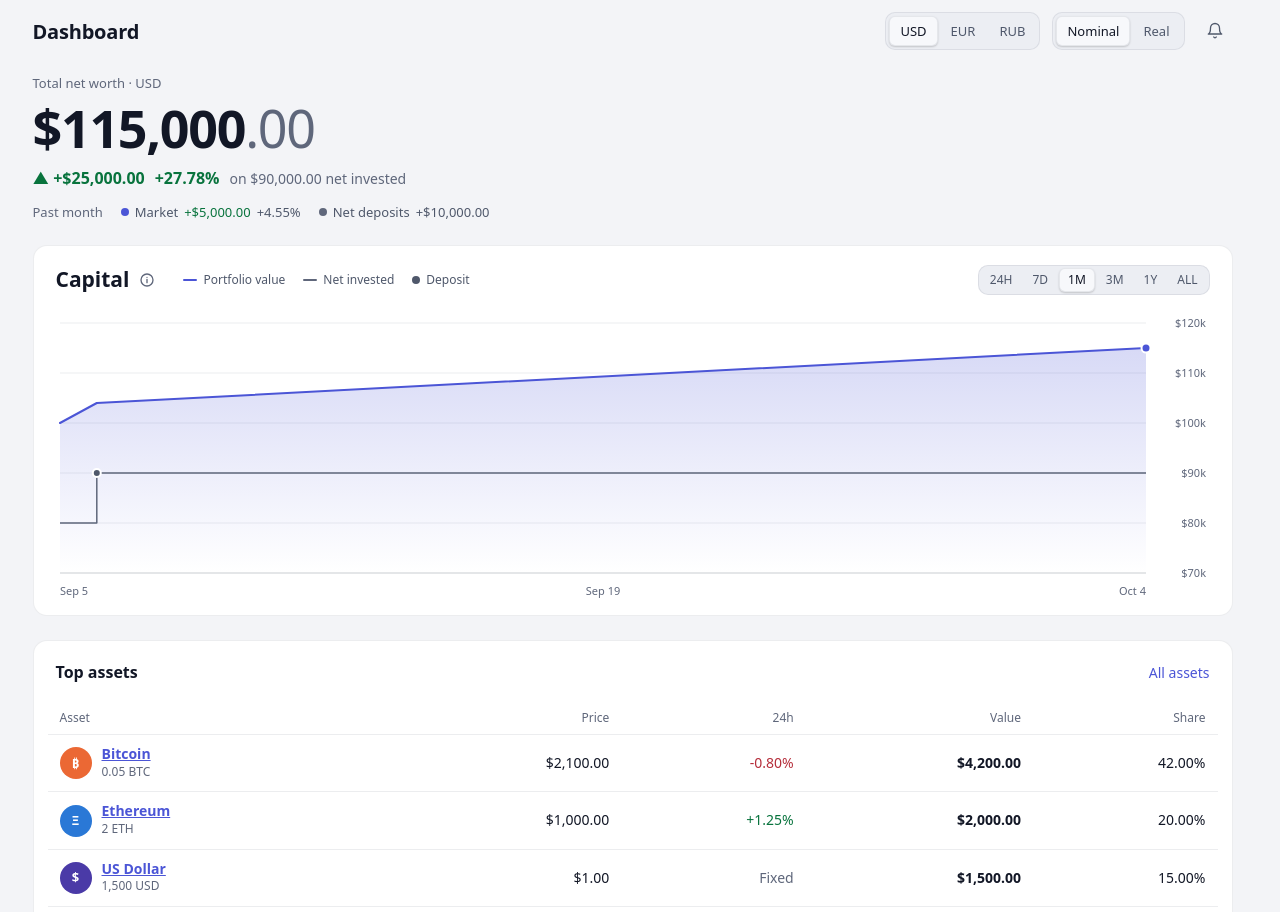
record-portfolio-snapshots dashboard › CHART-NOTE keeps the chart rules behind an info button instead of a paragraph
Expected: the element named "Portfolio value over time" does not show "snapshots", [32,246,1232,616]
Click the button named "About this chart" at (148, 280), box [136,268,160,292]
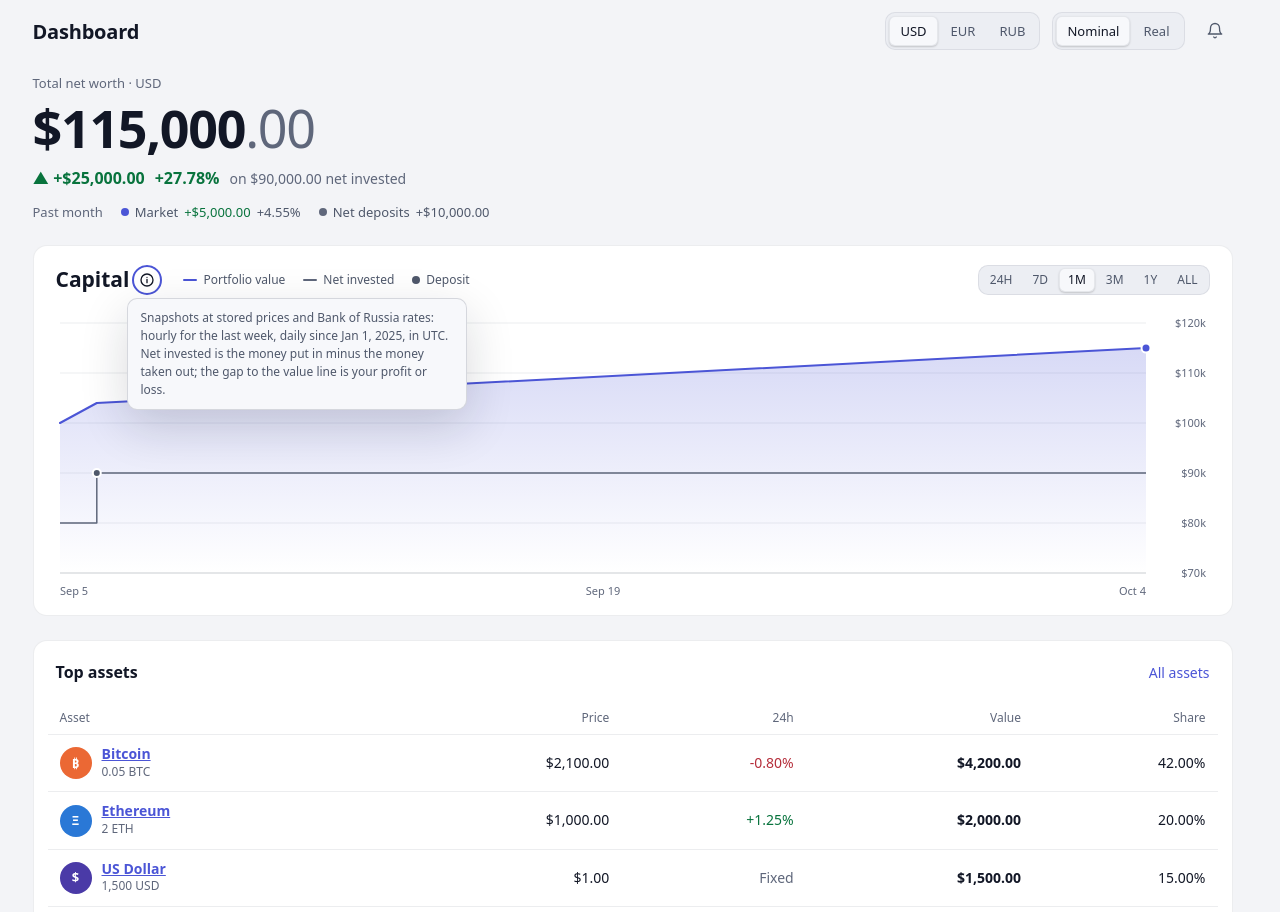
Expected: the button named "About this chart" is expanded, [136,268,160,292]
Expected: the text "hourly for the last week, daily since Jan 1, 2025" is shown, [140,309,448,398]
Expected: the text "Net invested" is shown, [140,309,448,398]
Press Escape
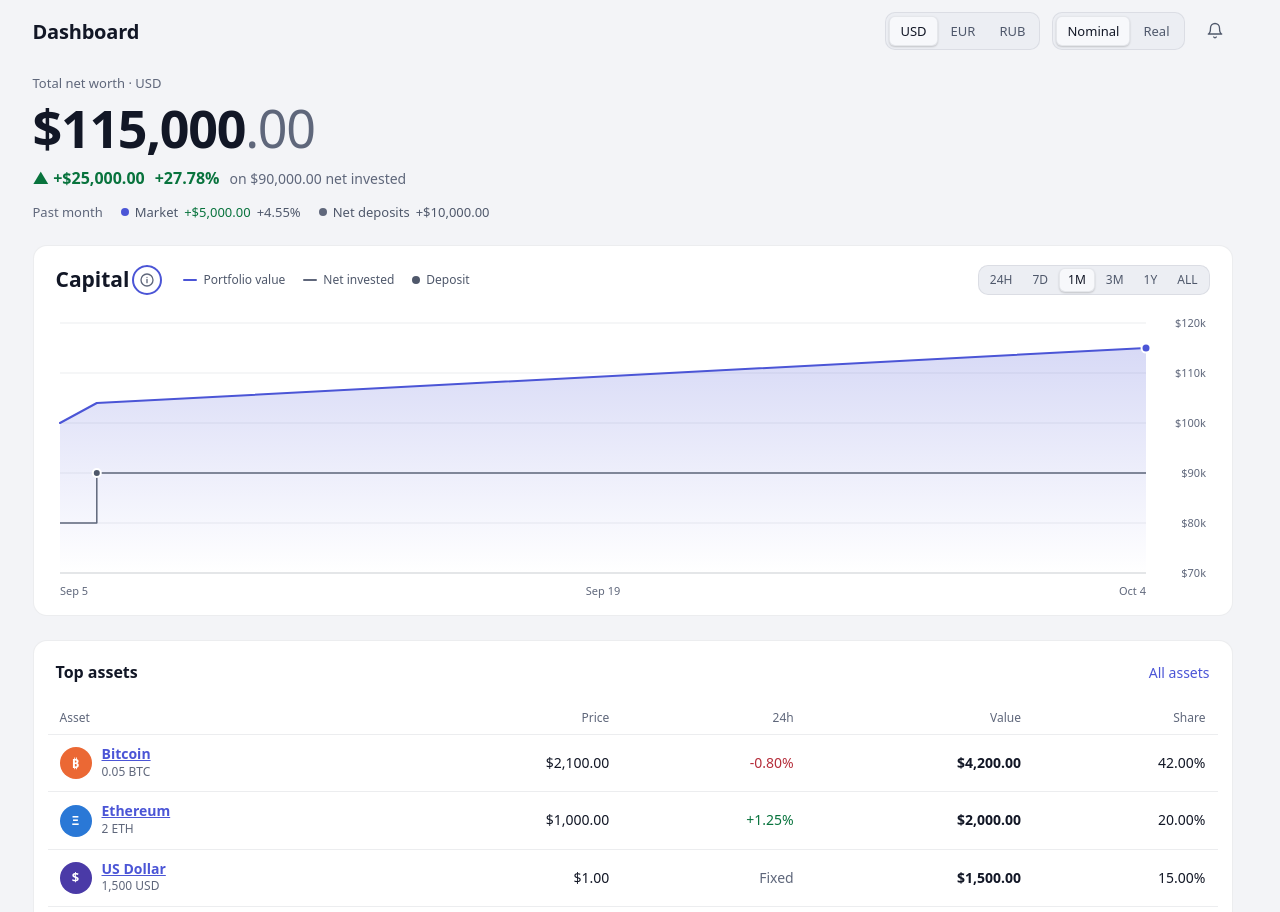
Expected: the button named "About this chart" is collapsed, [136,268,160,292]
